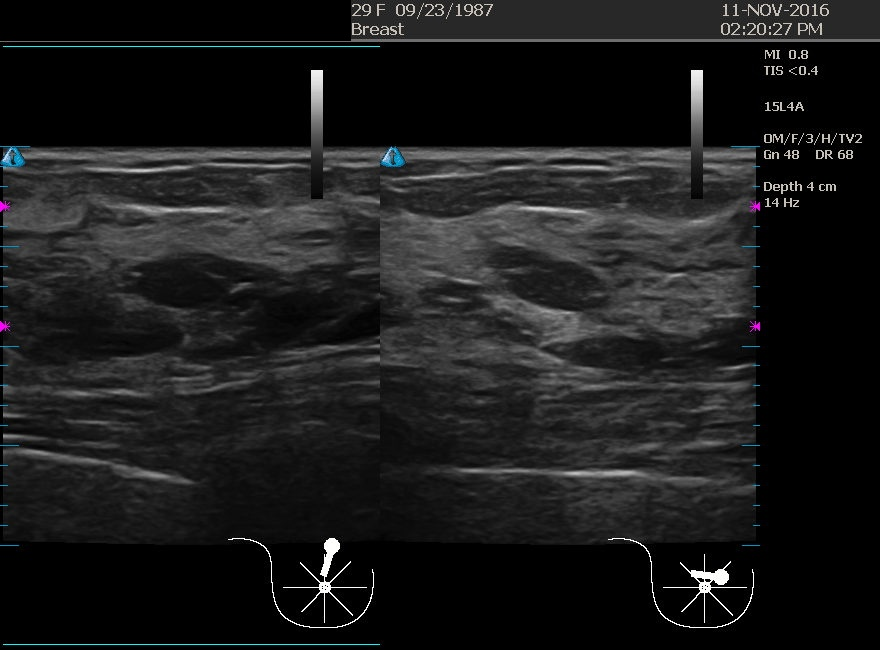BIRADS_3: (92, 189, 292, 389), (425, 190, 625, 390)
